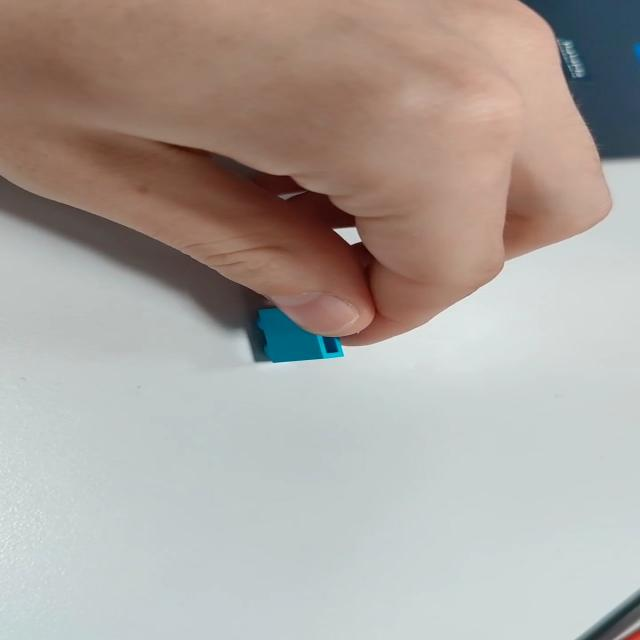C2x1x1: (253, 305, 346, 364)
